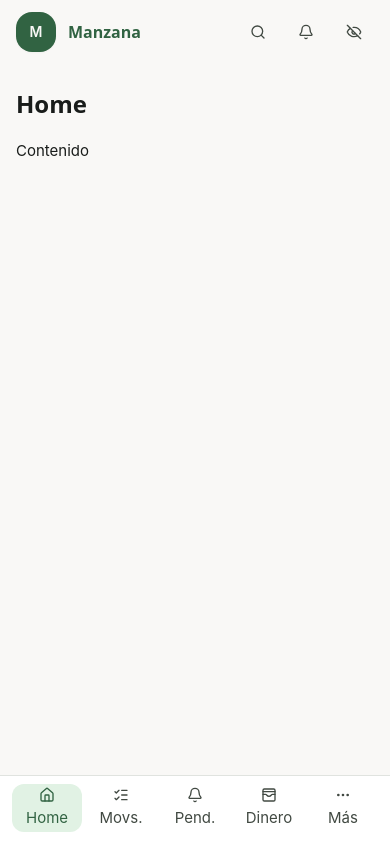
it: app shell navegación (AC-NAV-06, AC-NAV-08, W-07) › AC-NAV-06: el menú 'Más' de móvil expone todas las secciones que no están en la barra inferior
Step 1. Click the button "Más" → [343, 808], box [308,784,378,832]
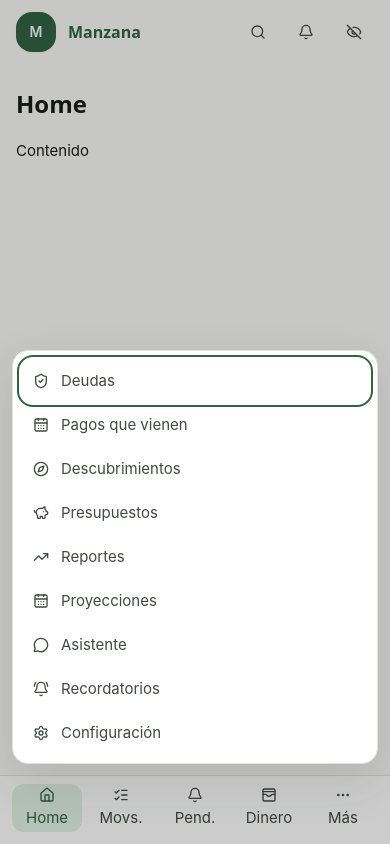
Check: the text "Deudas" is shown, box [61,370,115,392]
Check: the text "Pagos que vienen" is shown, box [61,414,188,436]
Check: the text "Descubrimientos" is shown, box [61,458,181,480]
